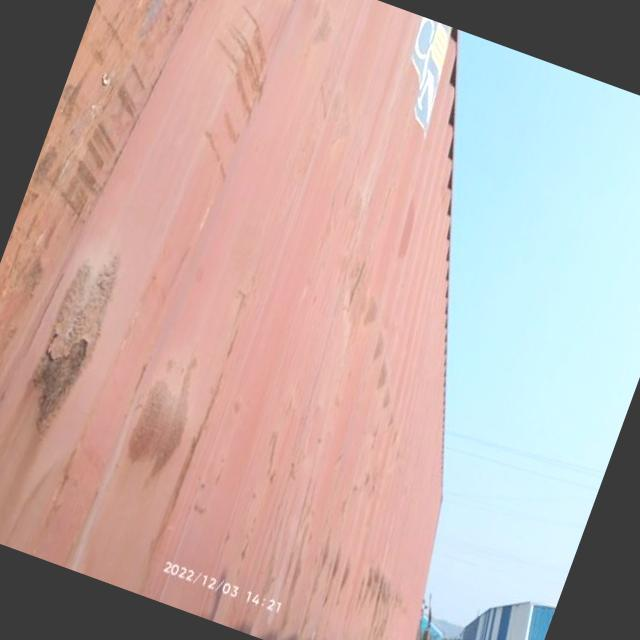rust: (16, 284, 111, 438)
